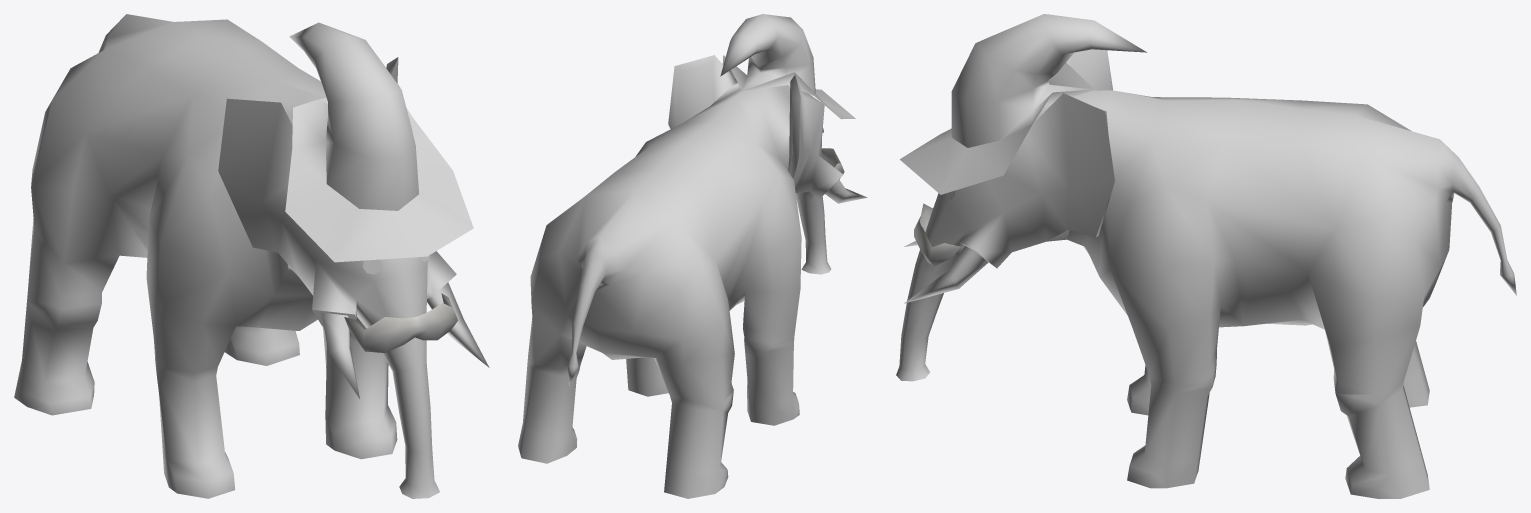
The model's file is elefante.fbx.
3 views of the same model, side by side, from view 1: azimuth 30°, elevation 25°; view 2: azimuth 150°, elevation 25°; view 3: azimuth 270°, elevation 25° (orthographic). The views are drawn at different scales.
Visible parts, largest first — view 1: Cube; view 2: Cube; view 3: Cube.
Part boxes in pixels (x1,y1,x2,y2): Cube: (14, 14, 489, 498); Cube: (518, 14, 867, 498); Cube: (896, 14, 1516, 498).
Size of the model in its own units: 277 by 468 by 618.
